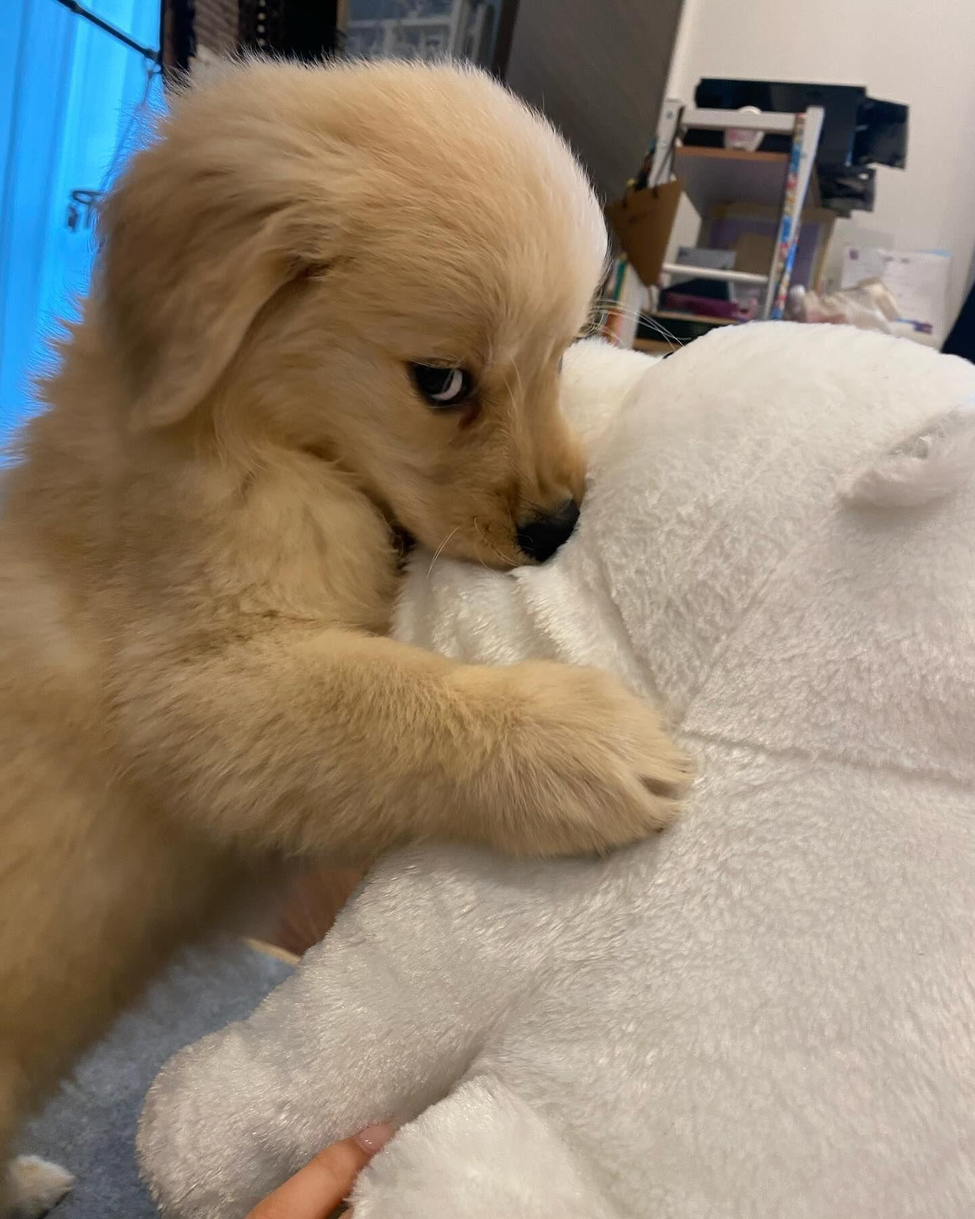puppy-dog: (0, 45, 699, 1219)
